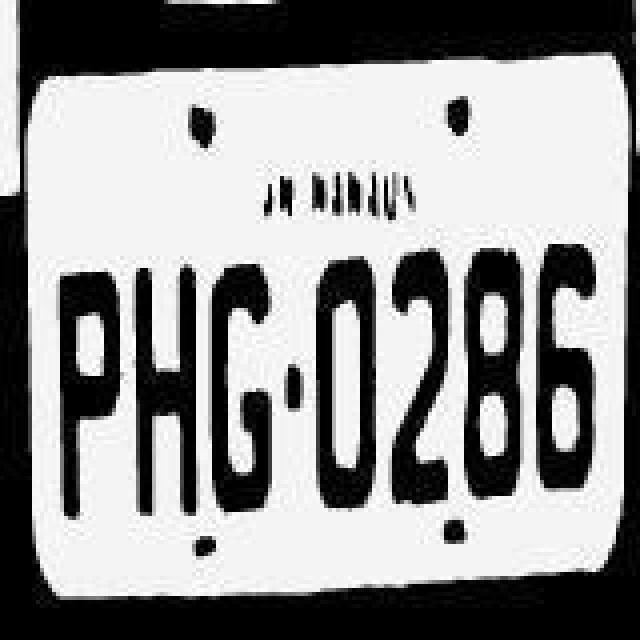2: (380, 242, 452, 526)
6: (530, 234, 598, 518)
8: (458, 244, 526, 524)
G: (204, 252, 276, 532)
H: (124, 256, 204, 528)
O: (310, 254, 378, 538)
P: (48, 262, 128, 538)
